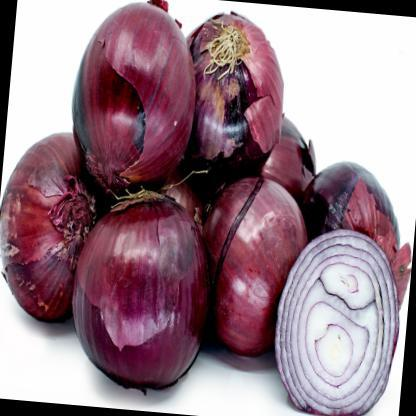onion: (207, 176, 412, 408), (72, 194, 218, 398), (61, 0, 208, 202)
